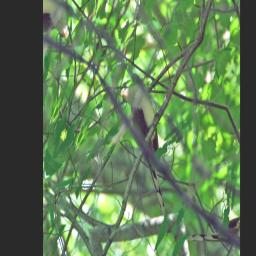Cuckoo: (94, 69, 199, 224)
